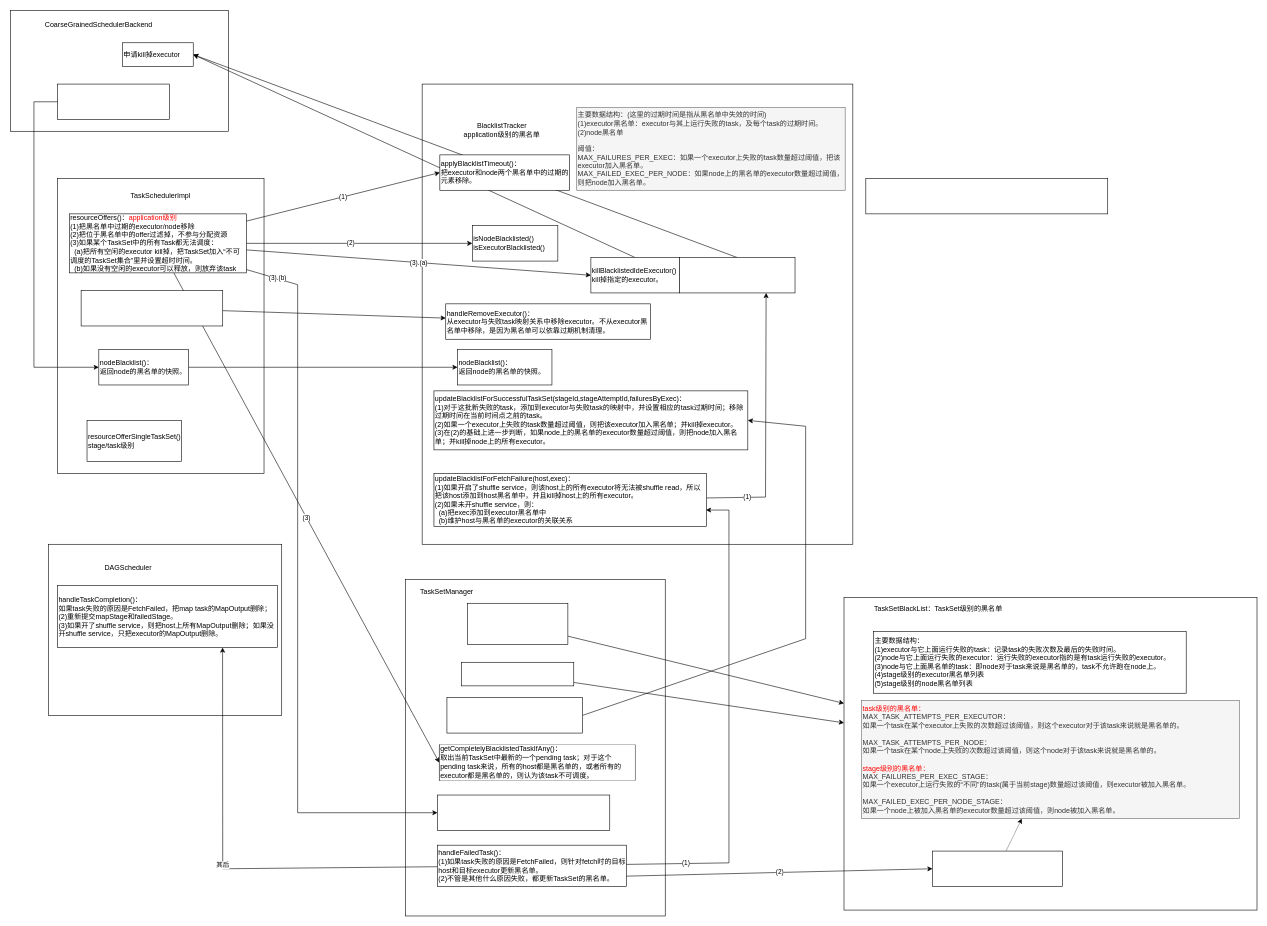
This 1267x926 diagram has some shape labels left out. The shapes that lost their labels are listed below. From the top down, each one's centre as x and y in pixels, then its label:
At (113,101): "接收到RegisterExeutor消息时：如果host在黑名单中，拒绝注册".
At (986,196): "参数资料： file:///Users/madianjun/Downloads/DesignDocforBlacklistMechanism.pdf".
At (737,275): "killExecutorsOnBlacklistedNode()：".
At (152,308): "removeExecutor()：当executor LOST时 从黑名单中移除executor".
At (517,624): "resourceOffer(execId,host)： 进入函数后，先判断host和execId是否已经在当前TaskSet的黑名单中".
At (517,674): "isTaskBlacklistedOnExeOrNode()：".
At (514,715): "maybeFinishTaskSet()： 如果TaskSet执行成功了，则更新该TaskSet在app级别的黑名单信息。".
At (523,812): "abortSinceCompletelyBlacklisted(indexInTaskSet)： 将当前TaskSet标记为Failed。".
At (997,868): "updateBlacklistForFailedTask()： 更新task失败的计数；更新task级别和stage级别黑名单。".
